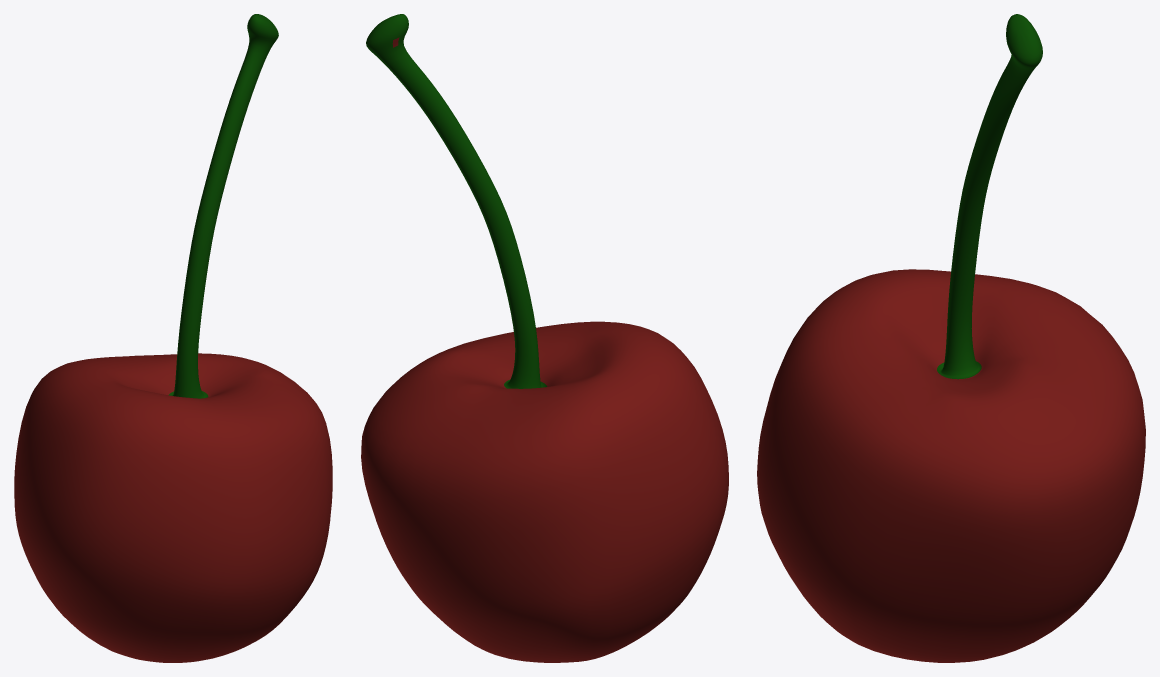
File: cherry.glb
The picture shows the model from 3 angles, left to right: view 1: azimuth 30°, elevation 25°; view 2: azimuth 150°, elevation 25°; view 3: azimuth 270°, elevation 25°; orthographic projection. The views are drawn at different scales.
Parts seen in each view (by area): view 1: Cherry; view 2: Cherry; view 3: Cherry.
Part boxes in pixels (x1=…): Cherry: x1=14, y1=14, x2=332, y2=662; Cherry: x1=361, y1=14, x2=728, y2=662; Cherry: x1=757, y1=14, x2=1145, y2=662.
Size of the model in its own units: 0.544 by 1.06 by 0.5378.
